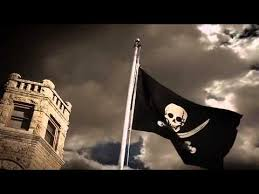Jolly Roger Flag: (126, 66, 244, 171)
